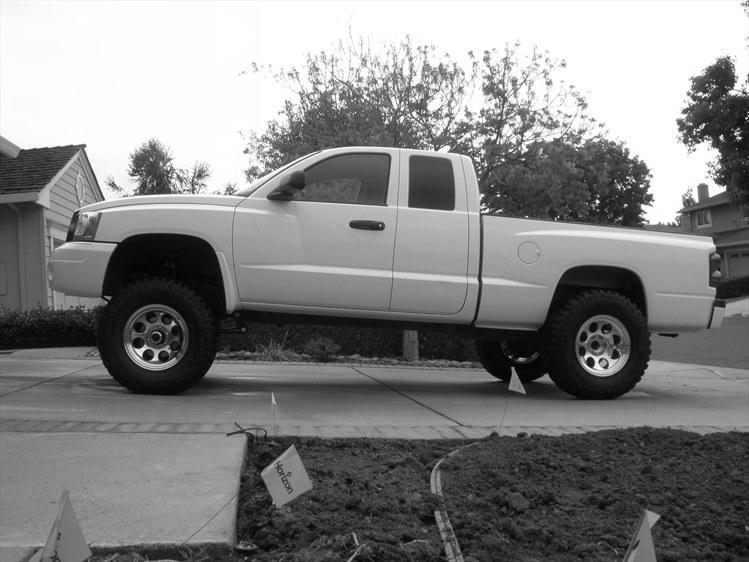car: (54, 145, 730, 406)
